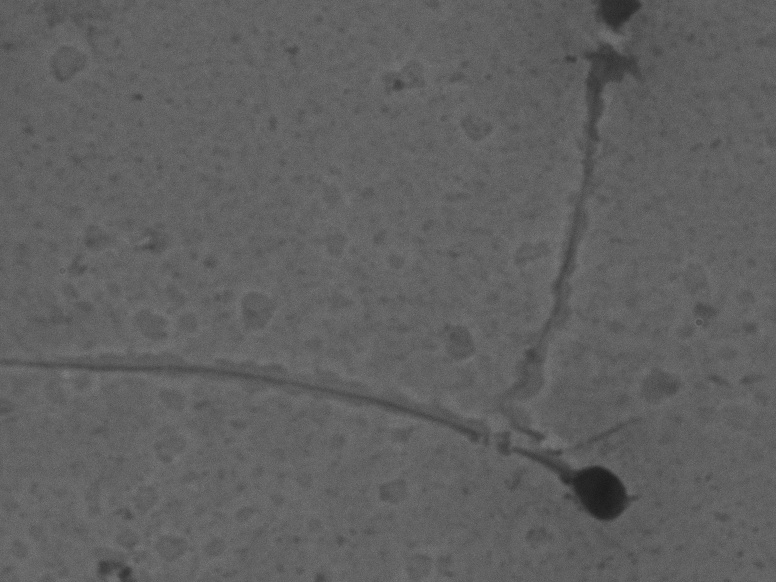Abnormal: (32, 328, 647, 561)
